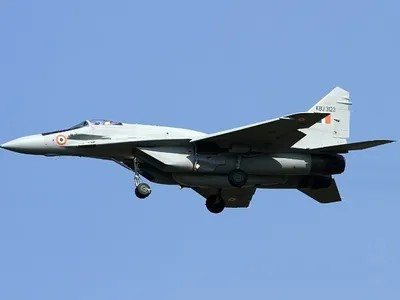Mig-29: (1, 81, 398, 220)
